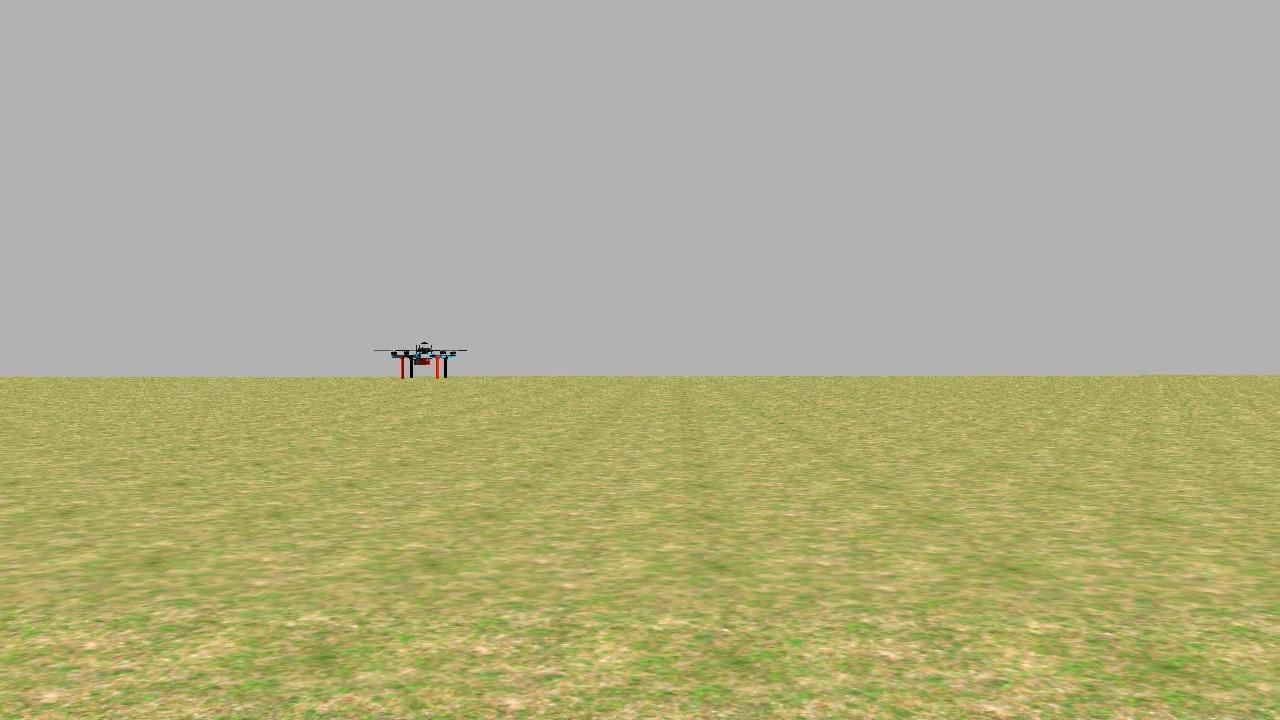UAV: (385, 338, 462, 386)
